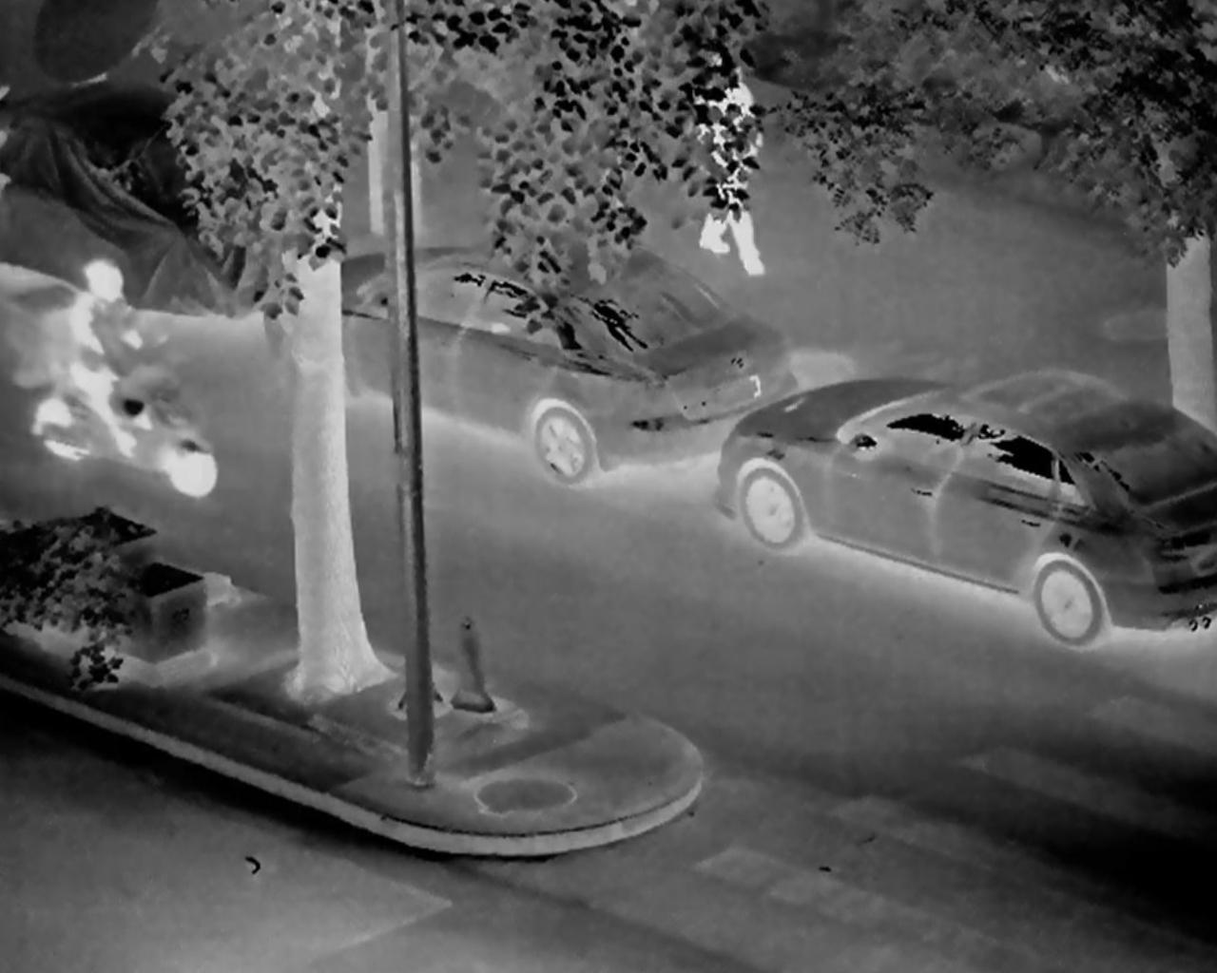person: (683, 57, 783, 282), (65, 254, 158, 455)
